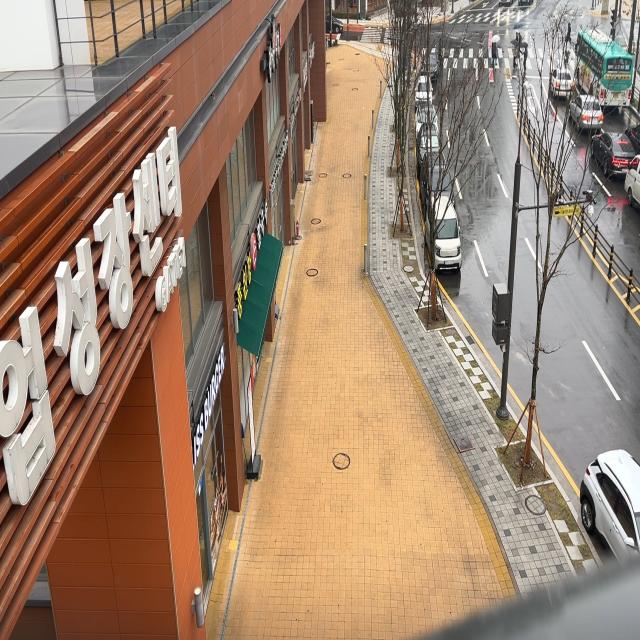Car: (575, 445, 640, 562), (423, 196, 465, 275), (586, 118, 632, 178), (419, 152, 462, 208), (565, 86, 608, 133), (619, 143, 640, 210), (414, 124, 442, 163), (550, 64, 576, 103), (408, 100, 439, 129), (418, 51, 442, 84), (411, 77, 434, 108), (622, 116, 640, 150), (324, 12, 345, 37)
